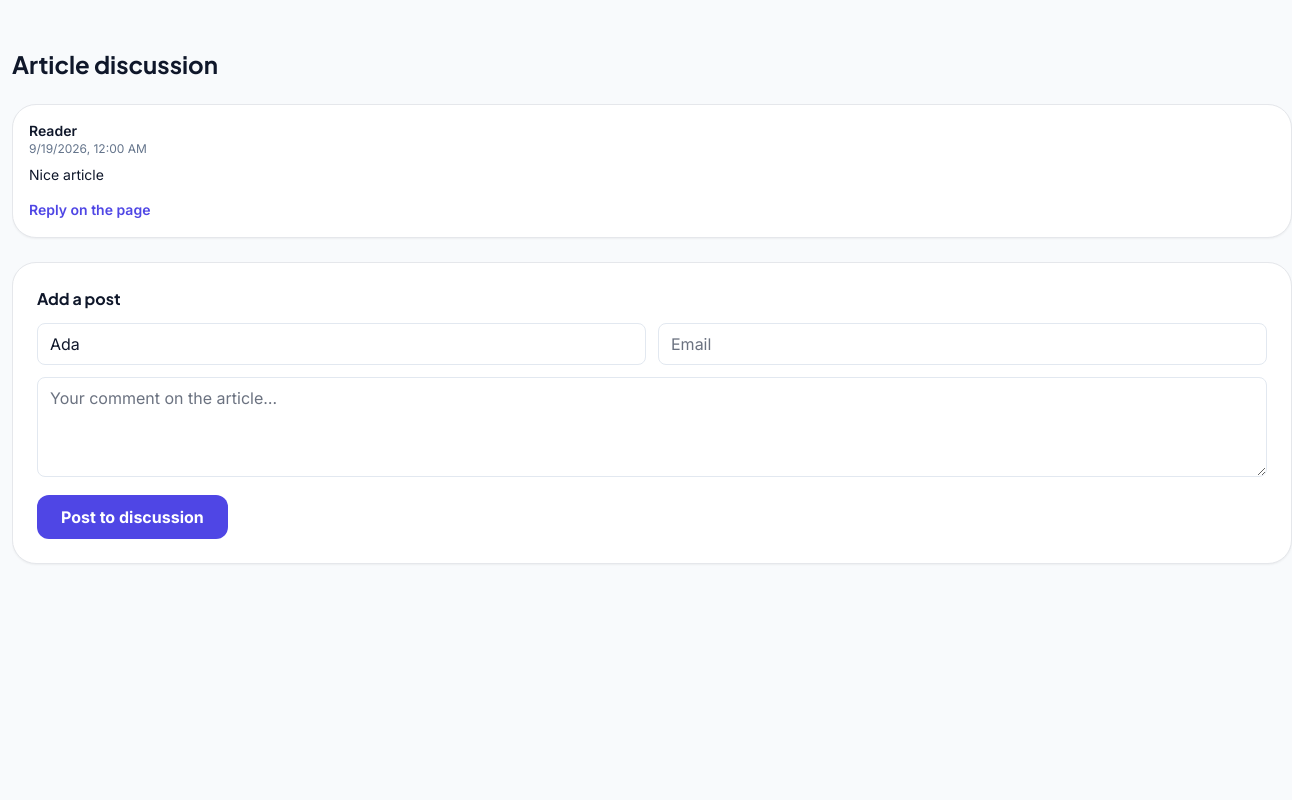
it: ArticleComments › lets a team member reply under the public comment
Click the button "Reply on the page". click: (90, 210)
box: [29,200,150,220]
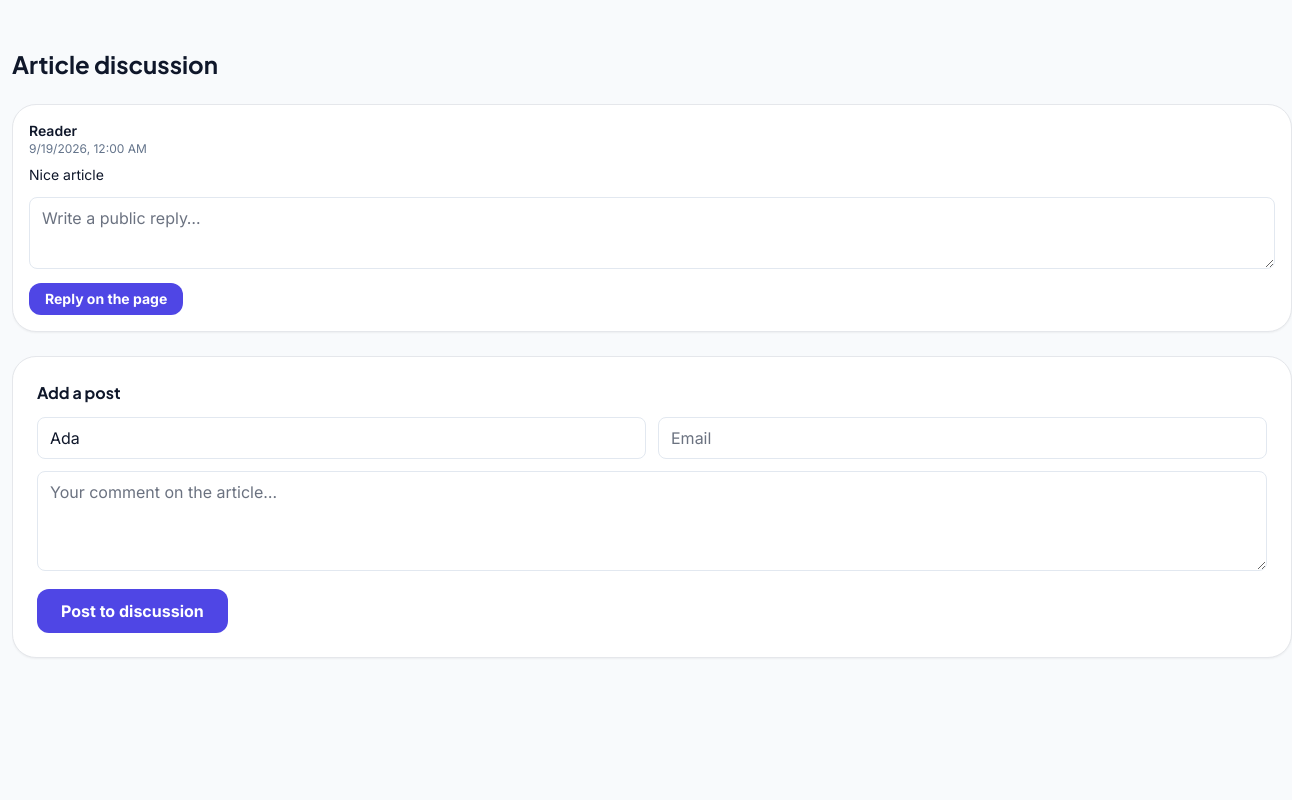
Type "Thanks — we will update that section." into the text box with placeholder "Write a public reply…". click: (652, 233)
box: [29,197,1275,269]
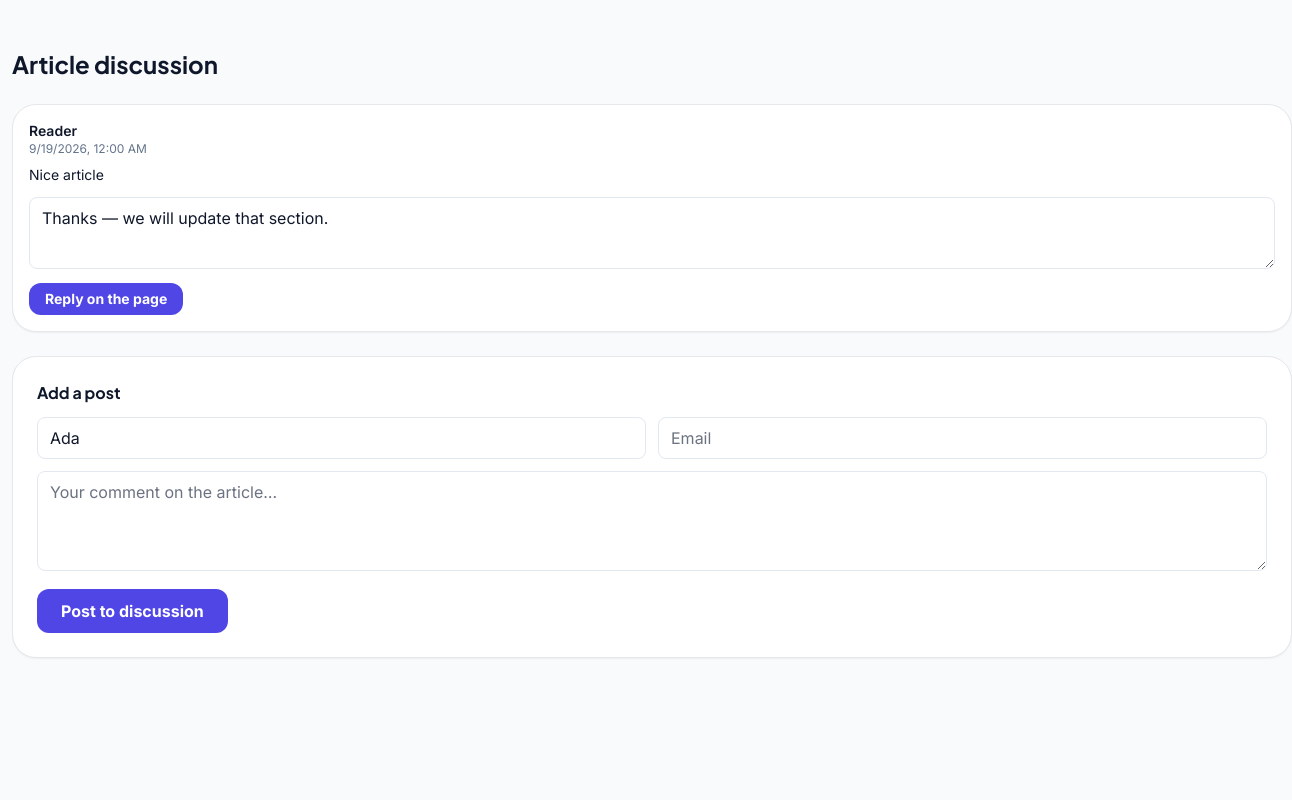
Click the button "Reply on the page". click: (106, 299)
box: [29,283,183,315]
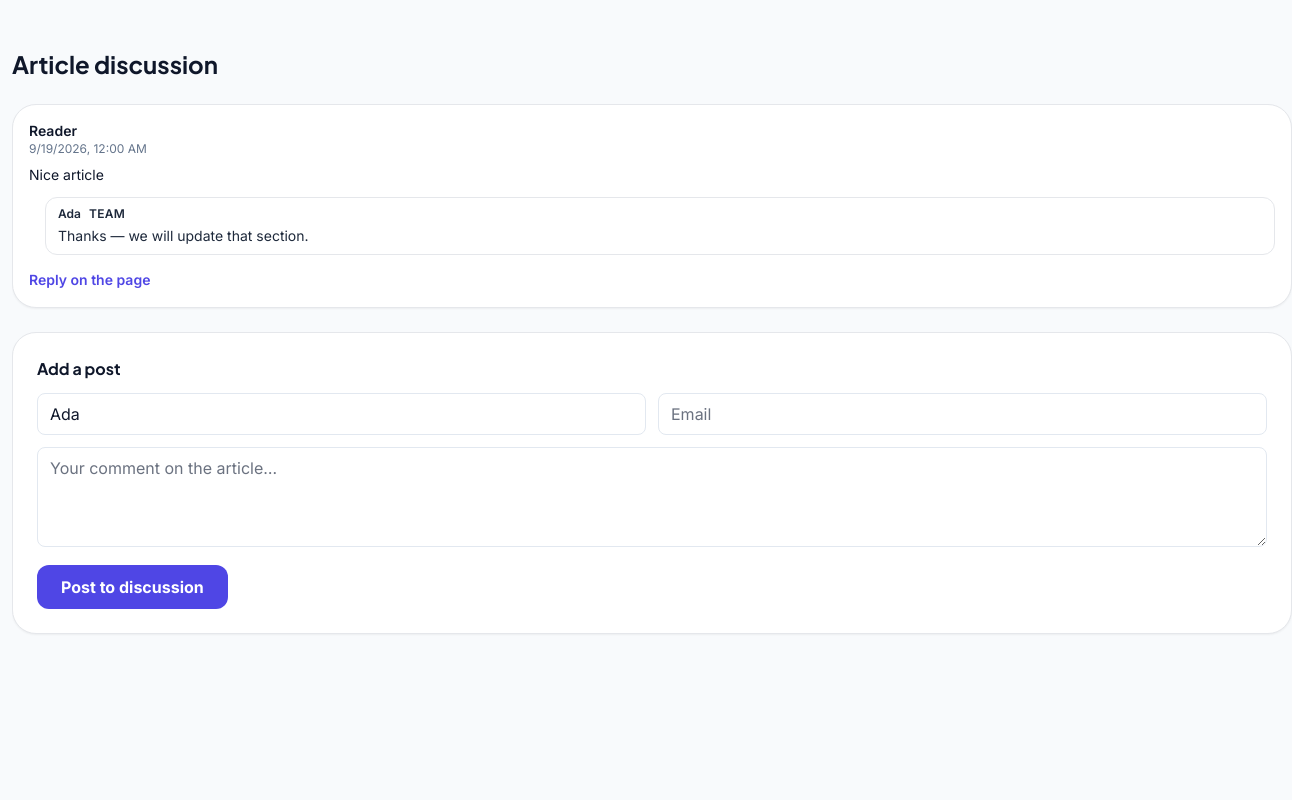
expect the text "Thanks — we will update that section." is shown: met, box [58,227,309,244]
